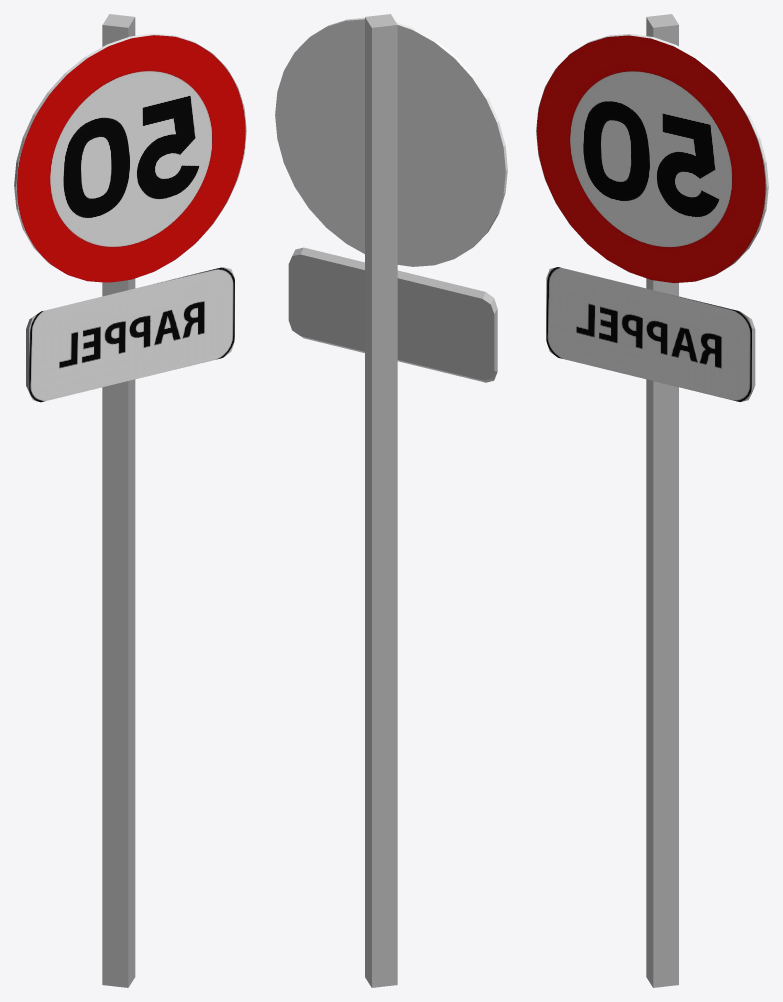
The model's file is reminder50.obj.
The picture shows the model from 3 angles, left to right: view 1: azimuth 30°, elevation 25°; view 2: azimuth 150°, elevation 25°; view 3: azimuth 330°, elevation 25°; orthographic projection.
Visible parts, largest first — view 1: Sign_PedestrianLane, Sign_Yield; view 2: Sign_Yield, Sign_PedestrianLane; view 3: Sign_PedestrianLane, Sign_Yield.
Boxes of the visible parts, left/top/right/bottom form: Sign_PedestrianLane: left=14, top=33, right=246, bottom=282; Sign_Yield: left=26, top=14, right=234, bottom=987; Sign_Yield: left=288, top=14, right=497, bottom=987; Sign_PedestrianLane: left=275, top=18, right=507, bottom=266; Sign_PedestrianLane: left=536, top=34, right=768, bottom=283; Sign_Yield: left=546, top=14, right=755, bottom=987.
Size of the model in its own units: 1.12 by 4.44 by 0.1914.
3 materials, 2 textured.
